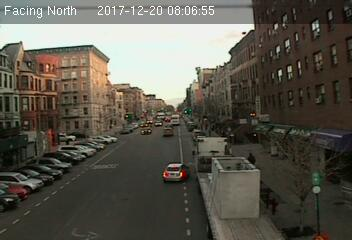car: (161, 160, 190, 182), (163, 125, 173, 137)
truck: (193, 135, 285, 240)
